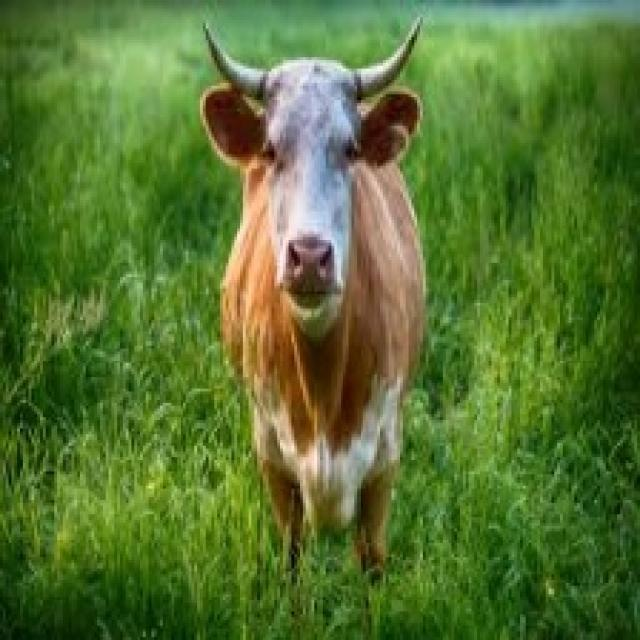animal: (101, 27, 521, 564)
